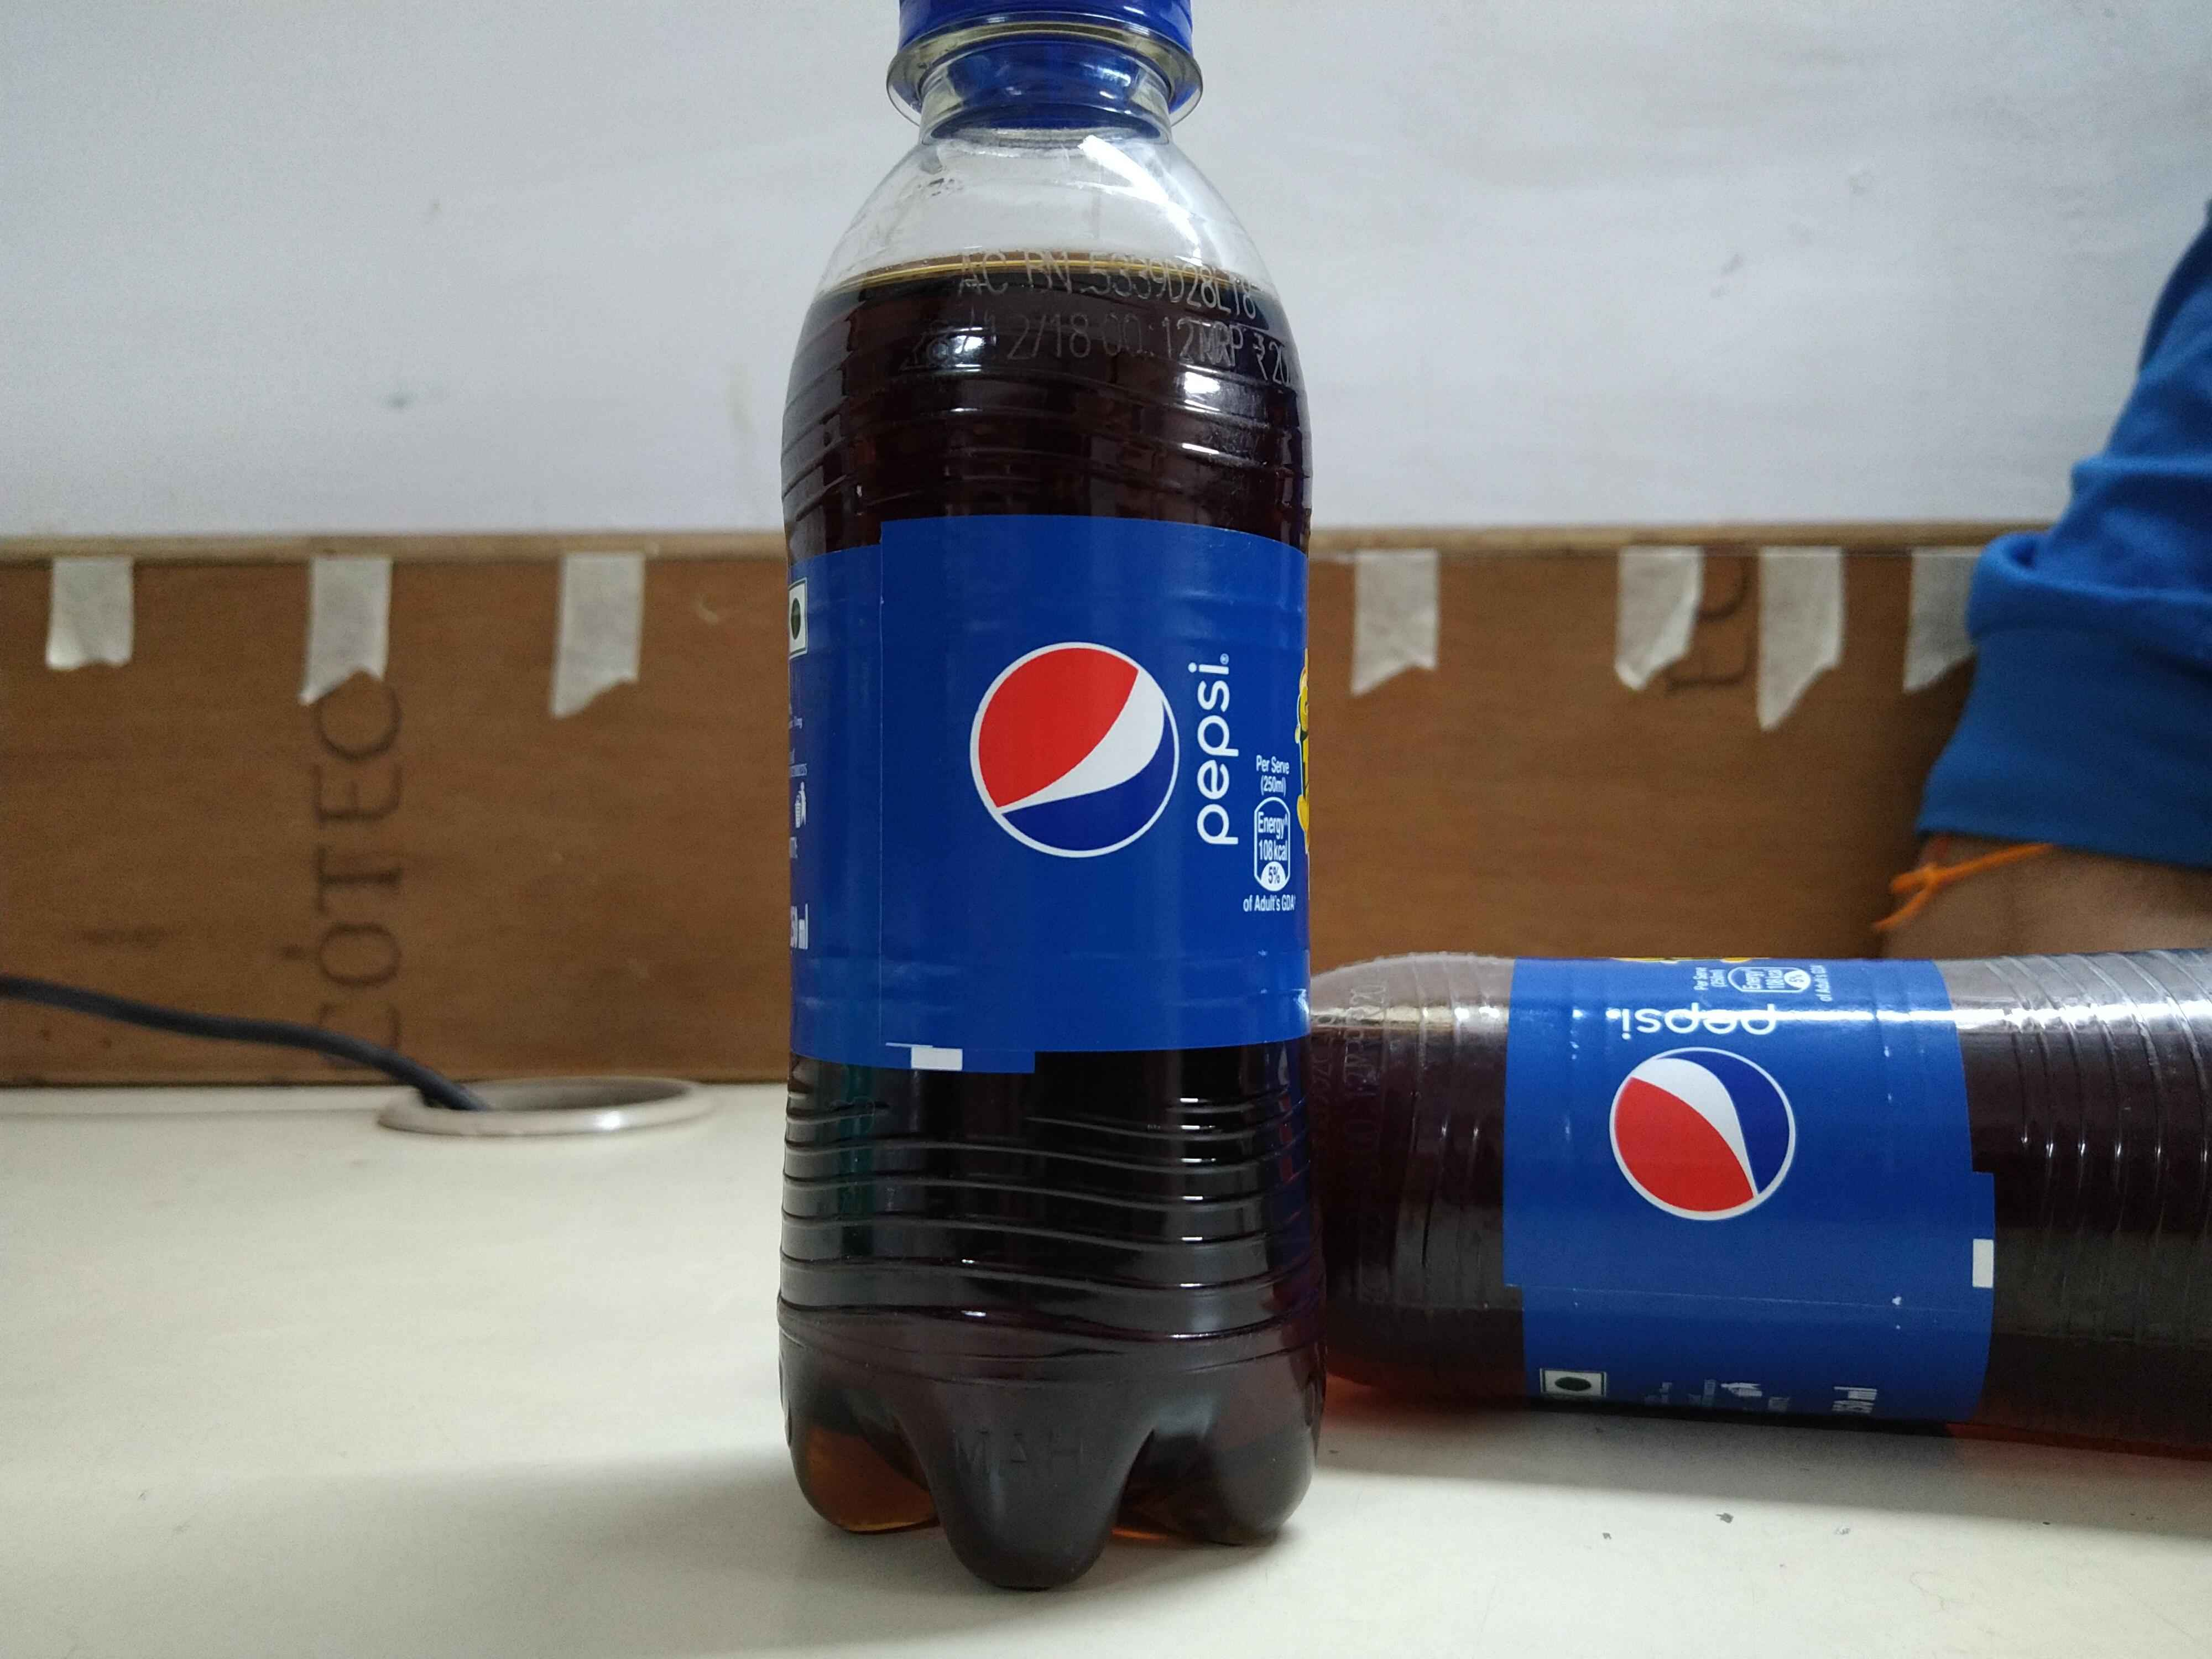pepsi: (796, 570, 1317, 988), (1536, 958, 1925, 1403)
